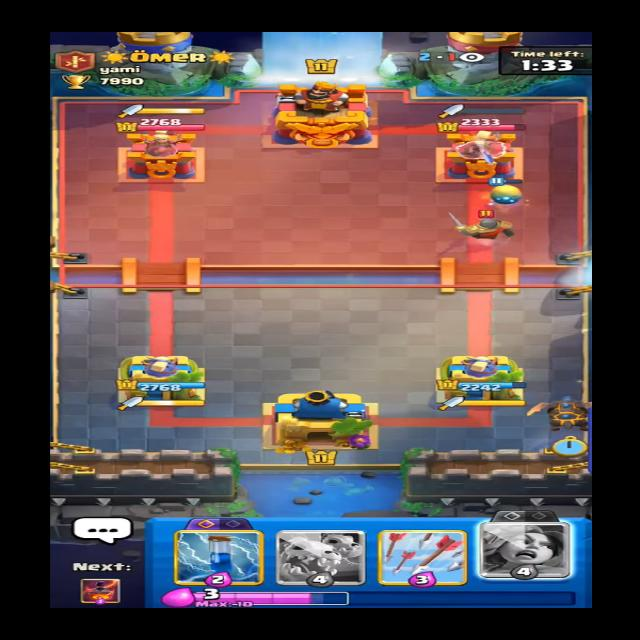knight: (447, 202, 521, 246)
